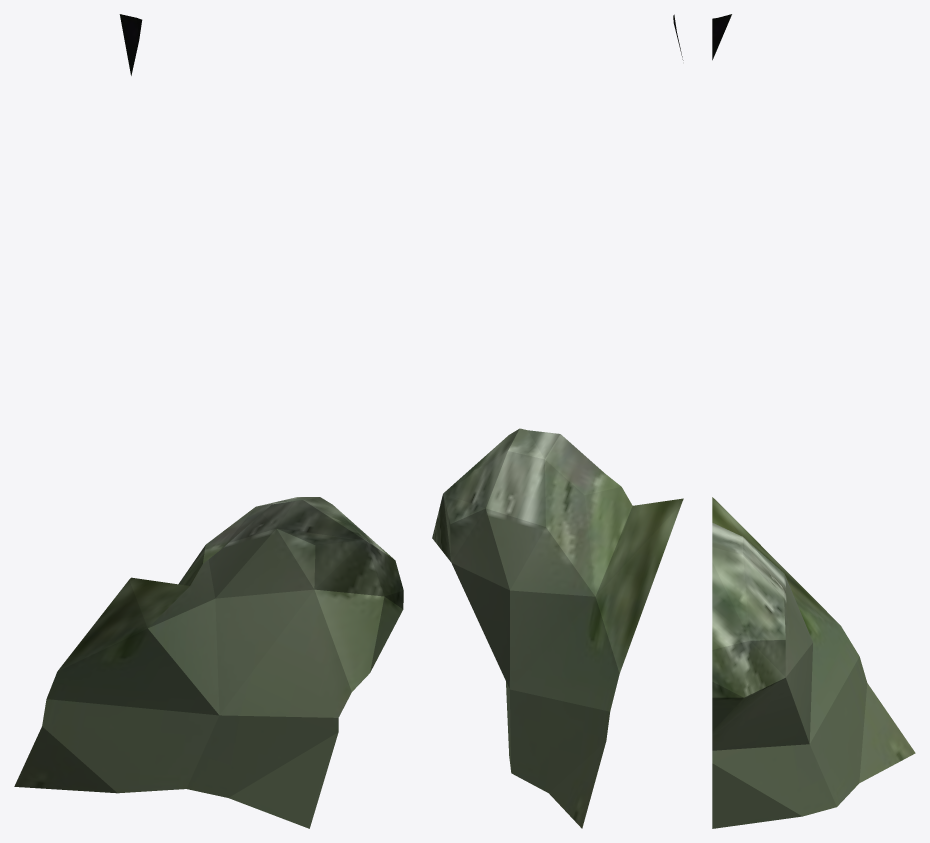
3 renders of one model, left to right at view 1: azimuth 30°, elevation 25°; view 2: azimuth 150°, elevation 25°; view 3: azimuth 270°, elevation 25°, orthographic. The views are drawn at different scales.
Size of the model in its own units: 0.9895 by 2.95 by 0.7361.
Materials: 1 (1 with a texture image).
